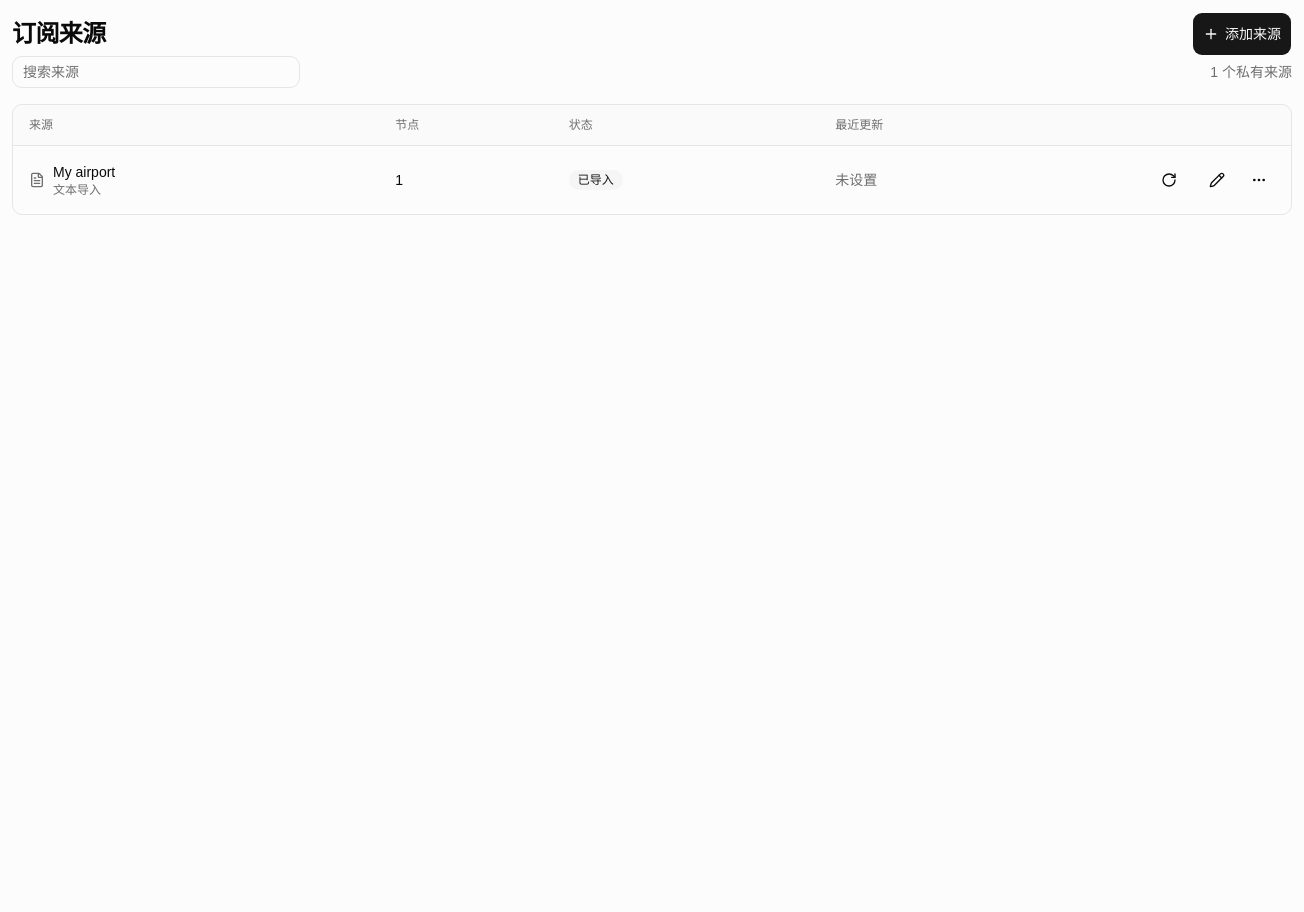
applies an automatic refresh in one request without opening a review or publishing
Click the button named "刷新 My airport".
click(1169, 180)  # box [1147, 158, 1191, 202]
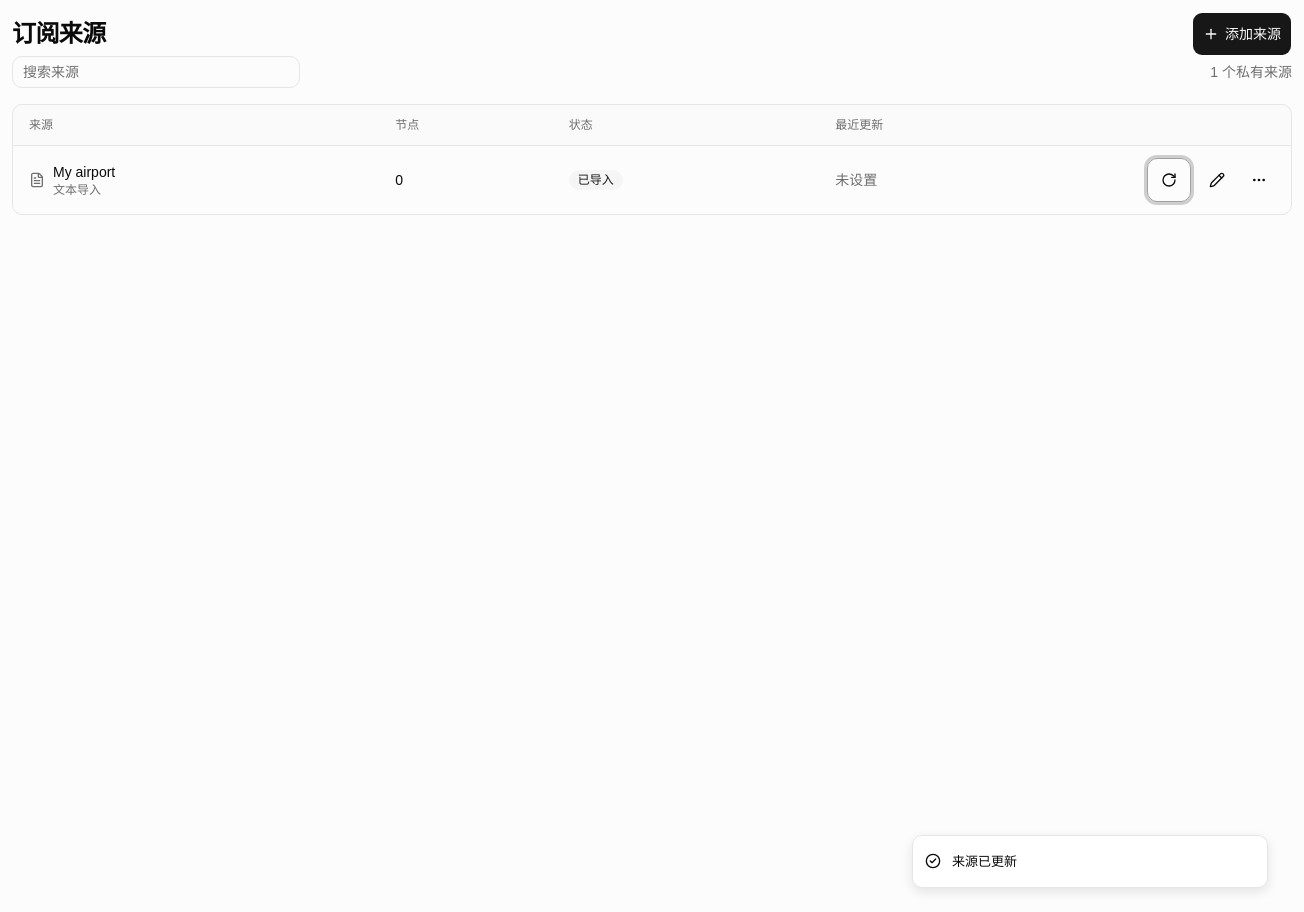
Result: the text "来源已更新" is shown at [952, 852, 1017, 871]
